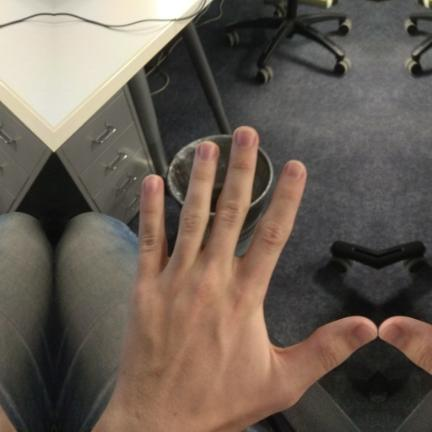Nail: (350, 323, 377, 347), (379, 323, 406, 347), (237, 130, 256, 147), (286, 161, 304, 178), (200, 143, 217, 160), (145, 177, 158, 194)
